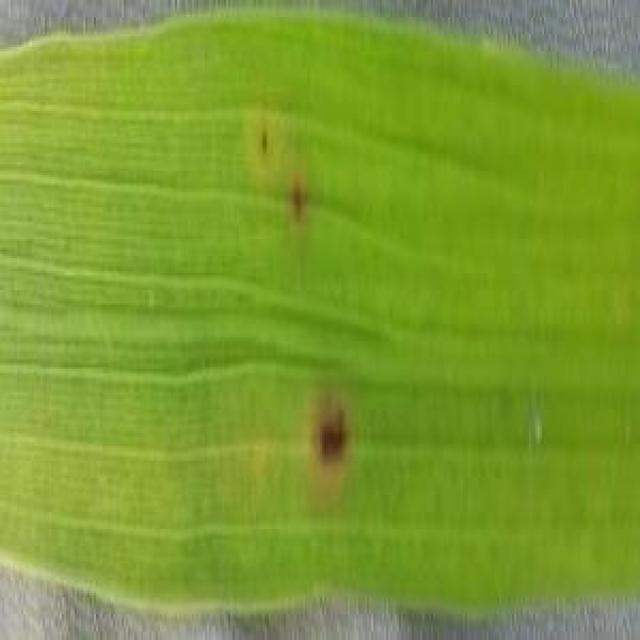brownspots: (298, 392, 368, 482), (275, 162, 316, 224)
